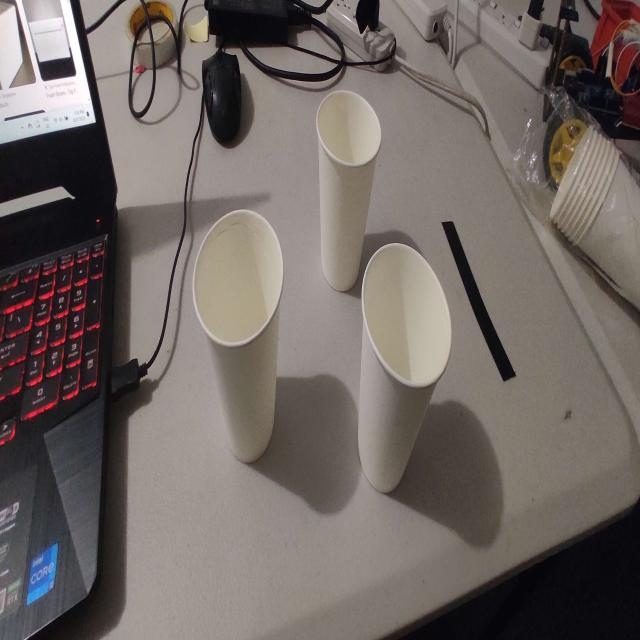styrofoam: (192, 211, 284, 461), (358, 244, 451, 491), (316, 92, 380, 289)
